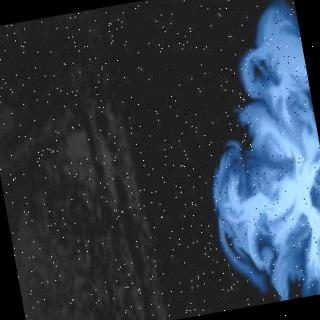smoke: (206, 74, 320, 308)
